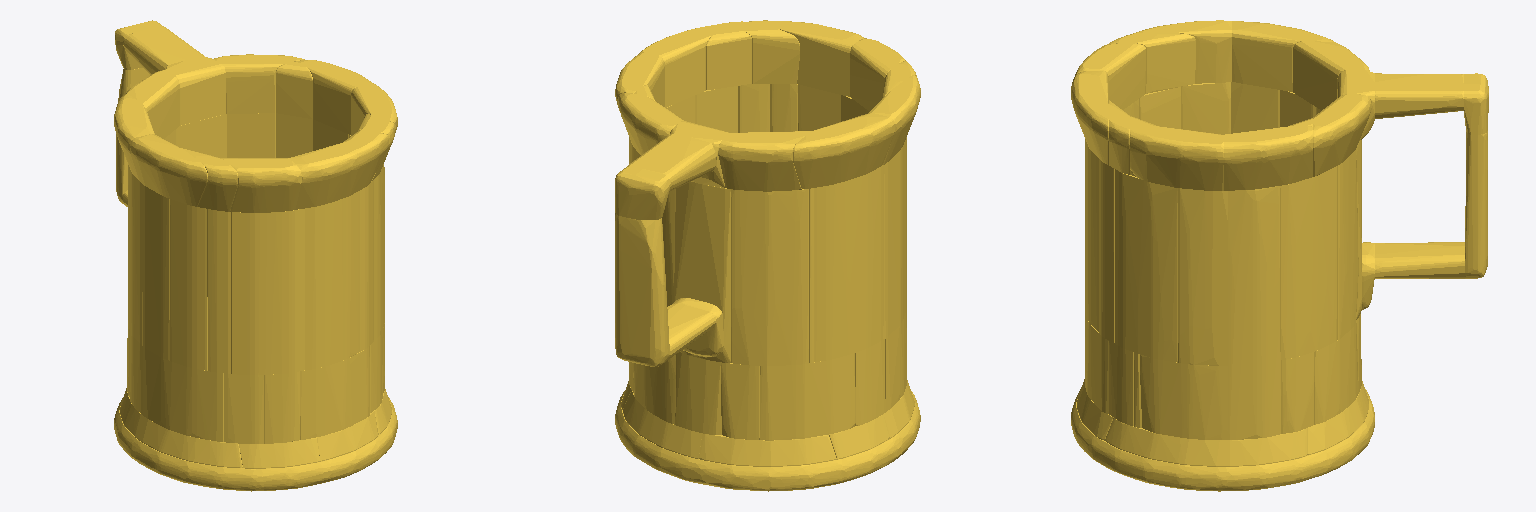
robot.urdf — 535.urdf:
<?xml version="1.0" ?>
<robot name="535.urdf">
	<link name="baseLink">
		<inertial>
			<origin rpy="0 0 0" xyz="0 0 0"/>
				<mass value="0.1"/>
				<inertia ixx="6e-5" ixy="0" ixz="0" iyy="6e-5" iyz="0" izz="6e-5"/>
		</inertial>
		<visual>
			<origin rpy="0 0 0" xyz="0 0 0"/>
			<geometry>
				<mesh filename="47_decom_wt.obj" scale="0.94 0.94 1.09"/>
			</geometry>
			<material name="yellow">
				<color rgba="0.98 0.84 0.35 1"/>
			</material>
		</visual>
		<collision>
			<origin rpy="0 0 0" xyz="0 0 0"/>
			<geometry>
				<mesh filename="47_decom_wt.obj" scale="0.94 0.94 1.09"/>
			</geometry>
		</collision>
	</link>
</robot>

--- Facts derived from the render (not from the file) ---
Views: 3 orthographic renders of the robot side by side, from view 1: azimuth 30°, elevation 25°; view 2: azimuth 150°, elevation 25°; view 3: azimuth 270°, elevation 25°.
Model 535.urdf with 1 links and 0 joints (none), rooted at baseLink, posed all joints at 0.
Visible links, largest first — view 1: baseLink; view 2: baseLink; view 3: baseLink.
Link boxes in pixels (x1,y1,x2,y2): baseLink: (114, 20, 397, 491); baseLink: (615, 20, 920, 491); baseLink: (1071, 20, 1488, 491).
Bounding box of the posed robot: 0.1162 × 0.1595 × 0.1466 m (x, y, z).
1 mesh visuals loaded from 1 distinct referenced files (1 OBJ).